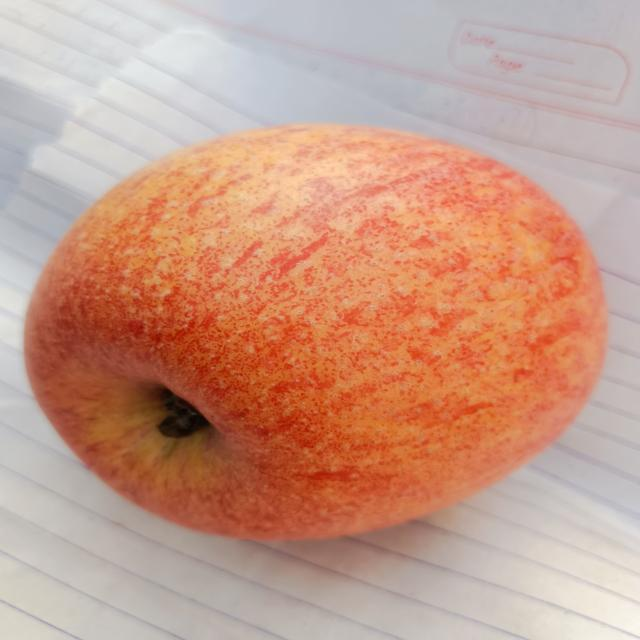Fresh Apple: (24, 118, 606, 544)
